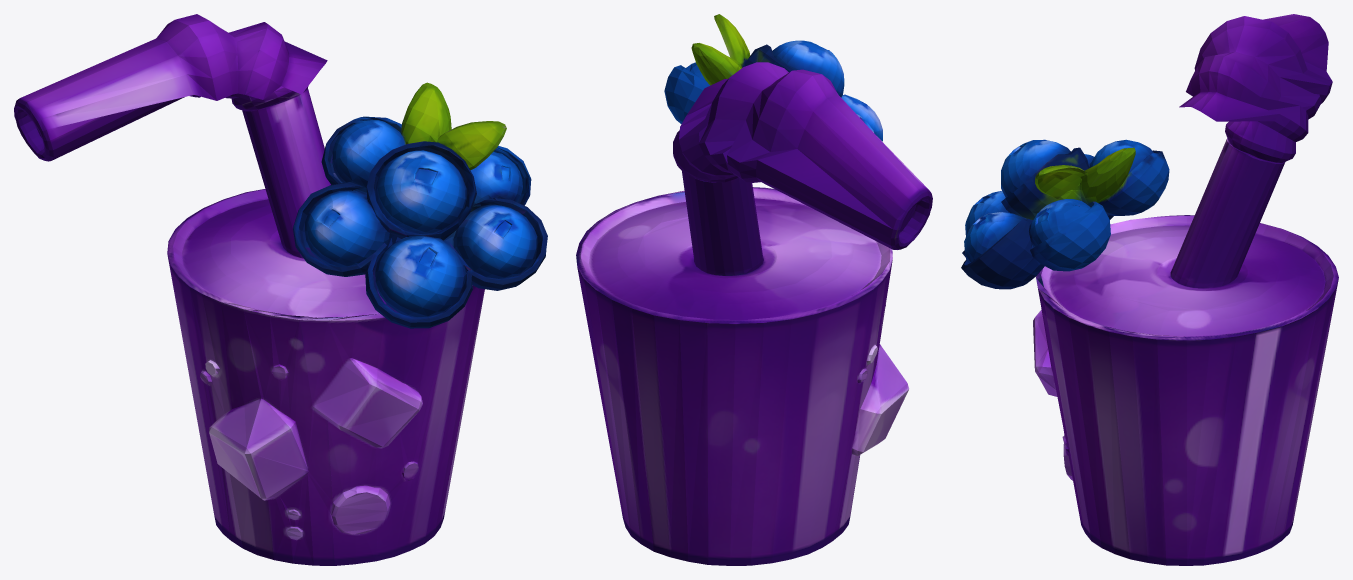
The model's file is Web_Smoothie_Blueberry.obj.
3 renders of one model, left to right at view 1: azimuth 30°, elevation 25°; view 2: azimuth 150°, elevation 25°; view 3: azimuth 270°, elevation 25°, orthographic. The views are drawn at different scales.
Parts seen in each view (by area): view 1: Web_Smoothie_Blueberry; view 2: Web_Smoothie_Blueberry; view 3: Web_Smoothie_Blueberry.
Boxes of the visible parts, x1=… form: Web_Smoothie_Blueberry: x1=14, y1=14, x2=547, y2=565; Web_Smoothie_Blueberry: x1=576, y1=14, x2=932, y2=565; Web_Smoothie_Blueberry: x1=961, y1=14, x2=1338, y2=565.
Bounding box in the file's own units: 0.8445 × 1.04 × 0.7769.
1 material, 1 textured.
